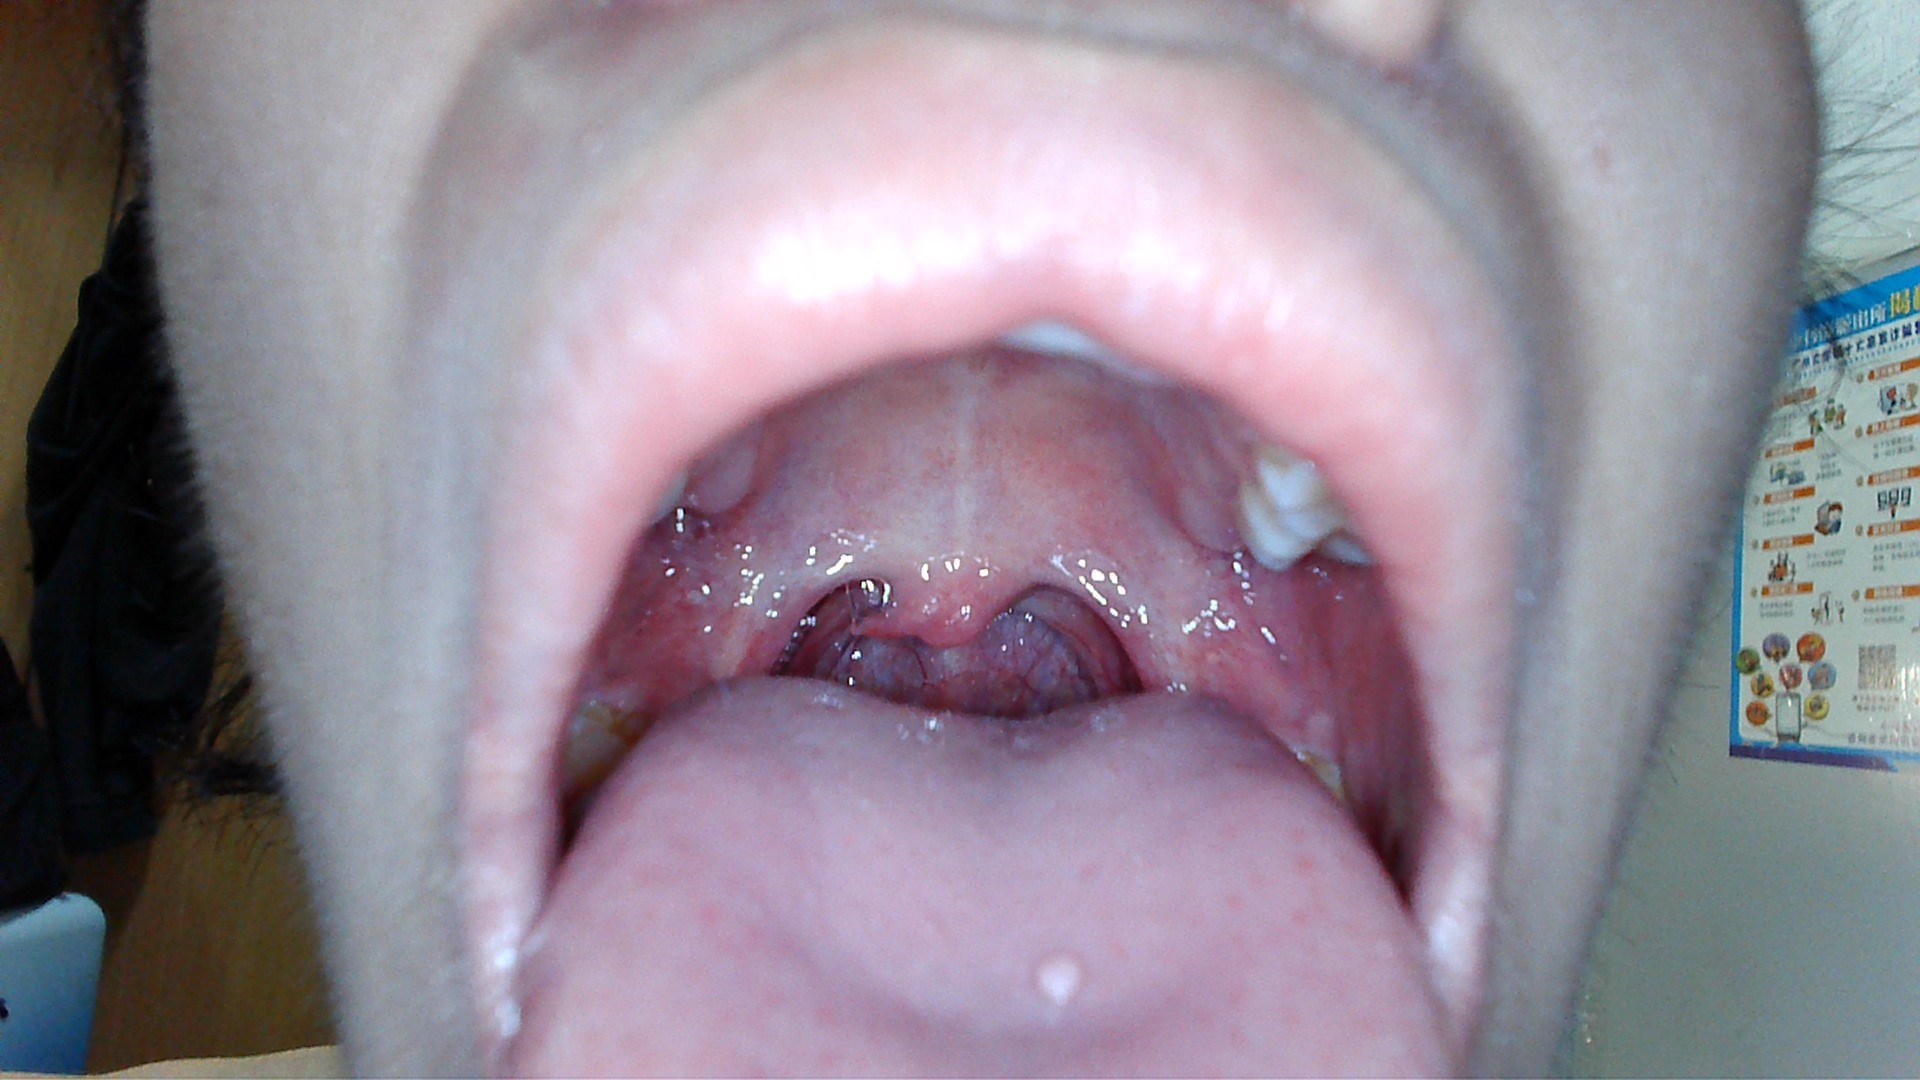throat: (1083, 545, 1185, 684), (713, 535, 806, 673)
